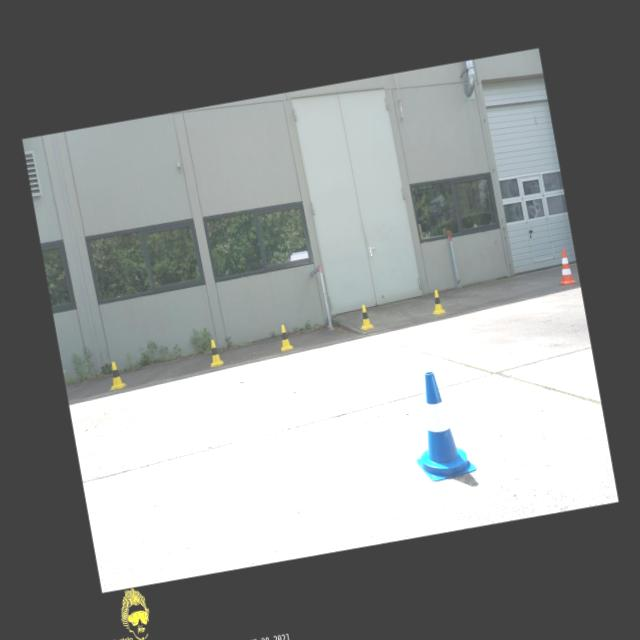blue_cone: (402, 366, 476, 483)
large_orange_cone: (552, 247, 578, 285)
yellow_cone: (105, 359, 127, 390), (427, 288, 446, 315), (206, 338, 223, 366), (356, 303, 374, 329), (276, 323, 293, 350)
